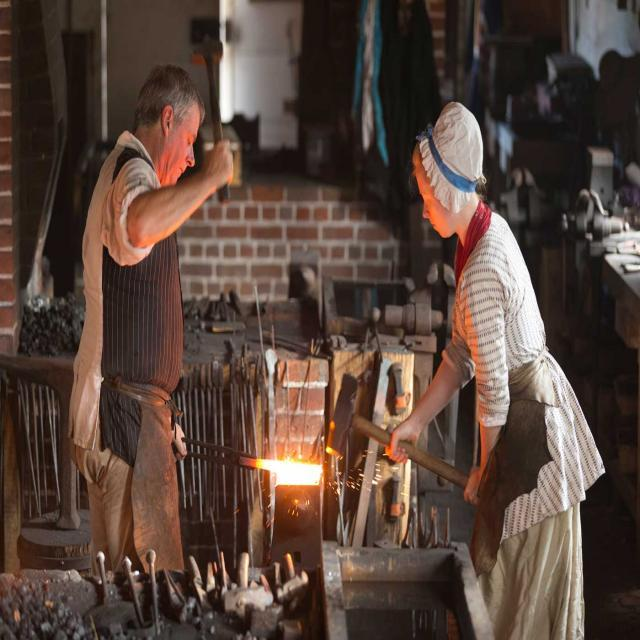hammer: (326, 364, 478, 492), (182, 28, 238, 217)
